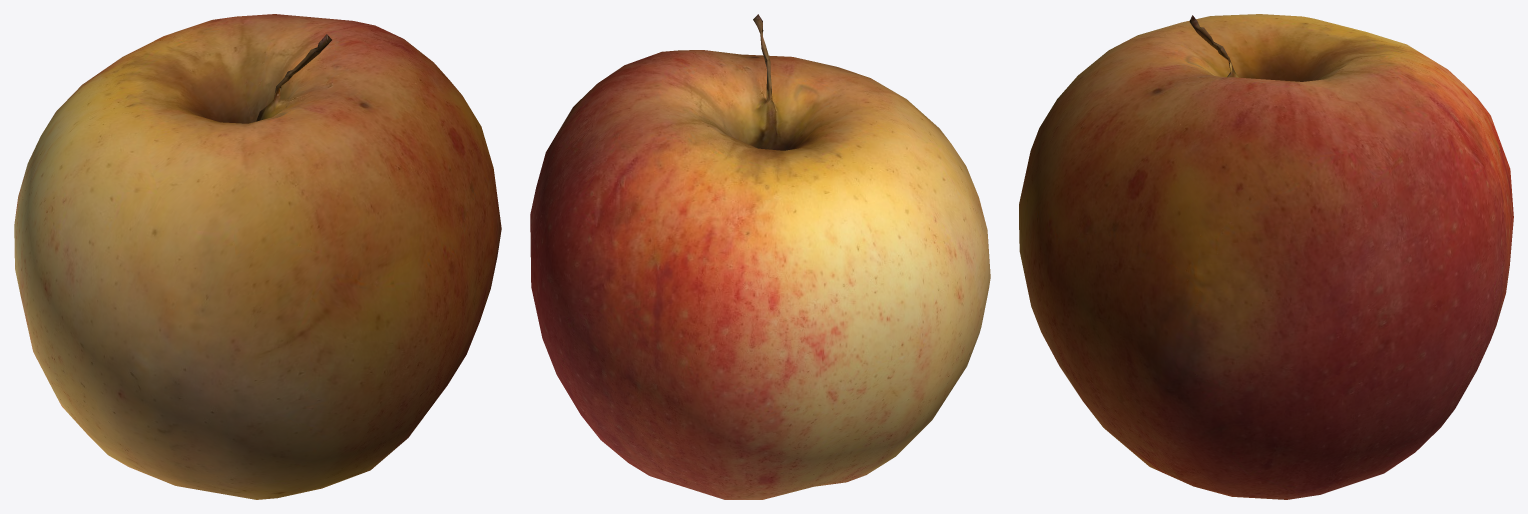
Rendered from apple5.fbx.
3 views of the same model, side by side, from view 1: azimuth 30°, elevation 25°; view 2: azimuth 150°, elevation 25°; view 3: azimuth 270°, elevation 25° (orthographic). The views are drawn at different scales.
Parts seen in each view (by area): view 1: apple05_lr; view 2: apple05_lr; view 3: apple05_lr.
Boxes of the visible parts, x1=… form: apple05_lr: x1=14, y1=14, x2=501, y2=499; apple05_lr: x1=530, y1=14, x2=990, y2=499; apple05_lr: x1=1019, y1=14, x2=1513, y2=499.
Size of the model in its own units: 99.95 by 98.5 by 96.77.
